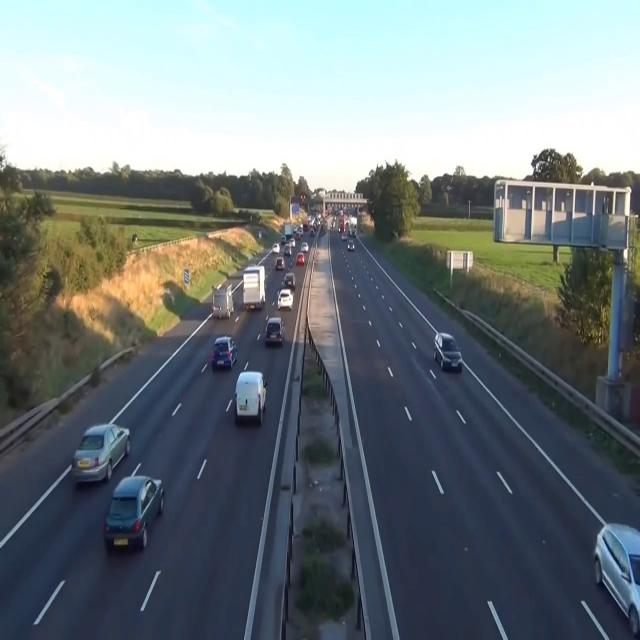belum terisi: (584, 508, 640, 636), (102, 461, 168, 551), (67, 412, 135, 489), (232, 367, 270, 424), (237, 258, 270, 317), (433, 324, 465, 374), (259, 302, 286, 357), (205, 329, 237, 372), (209, 276, 236, 324), (276, 285, 296, 314)
